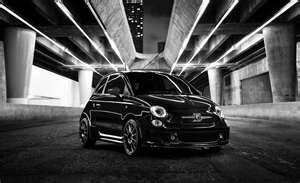car: (80, 67, 232, 160)
